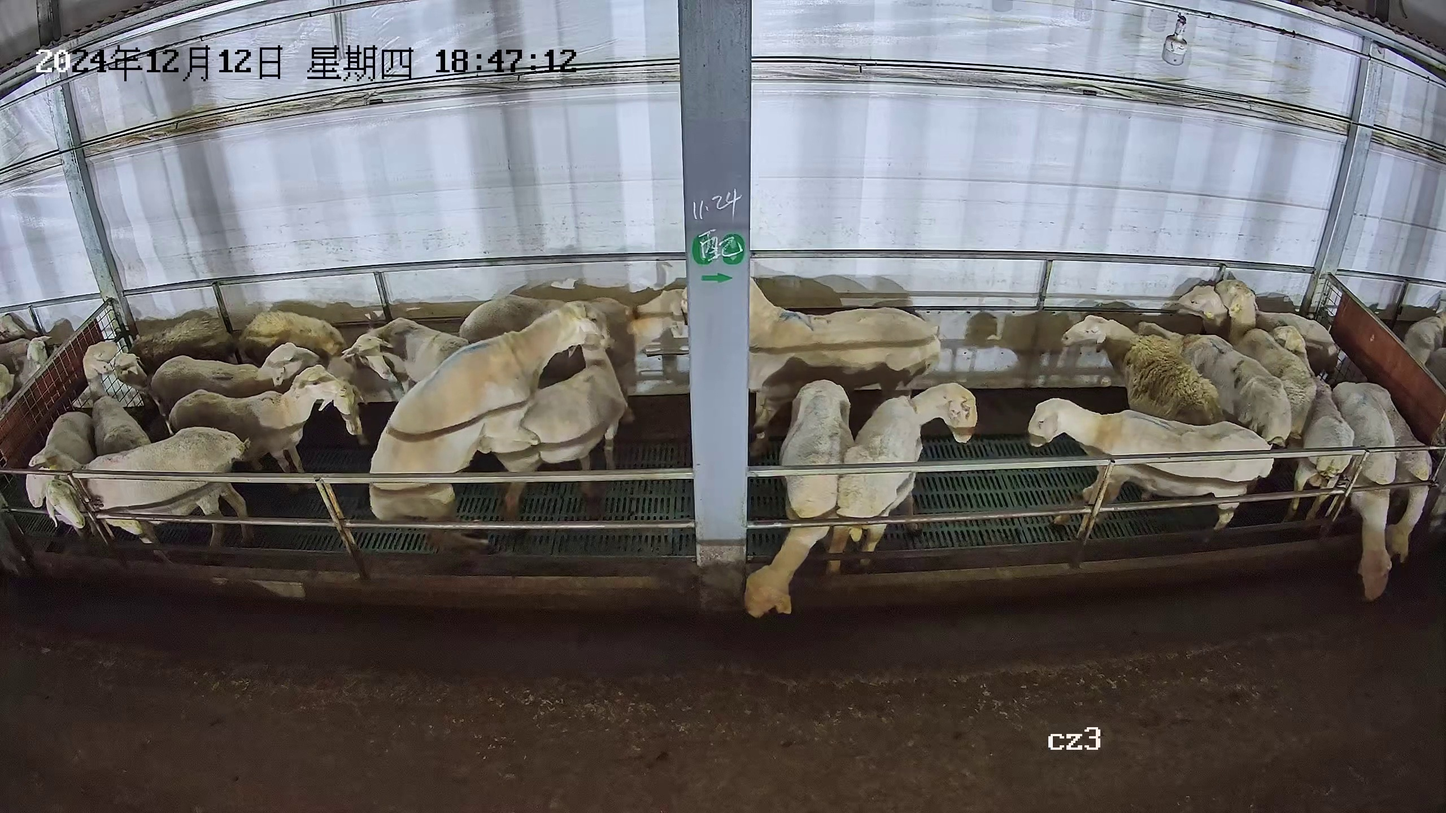Smounting: (364, 299, 637, 551)
mounted: (492, 330, 634, 537)
